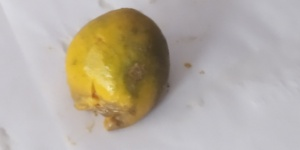BAD: (65, 8, 169, 133)
